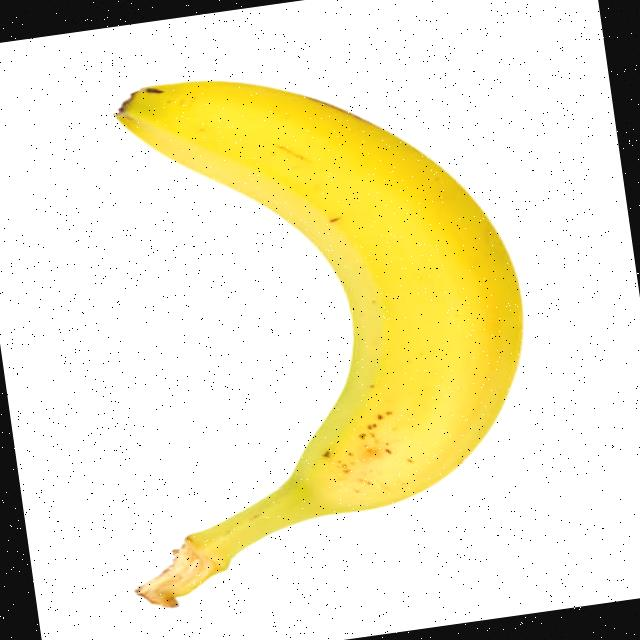Ripe: (106, 32, 554, 568)
